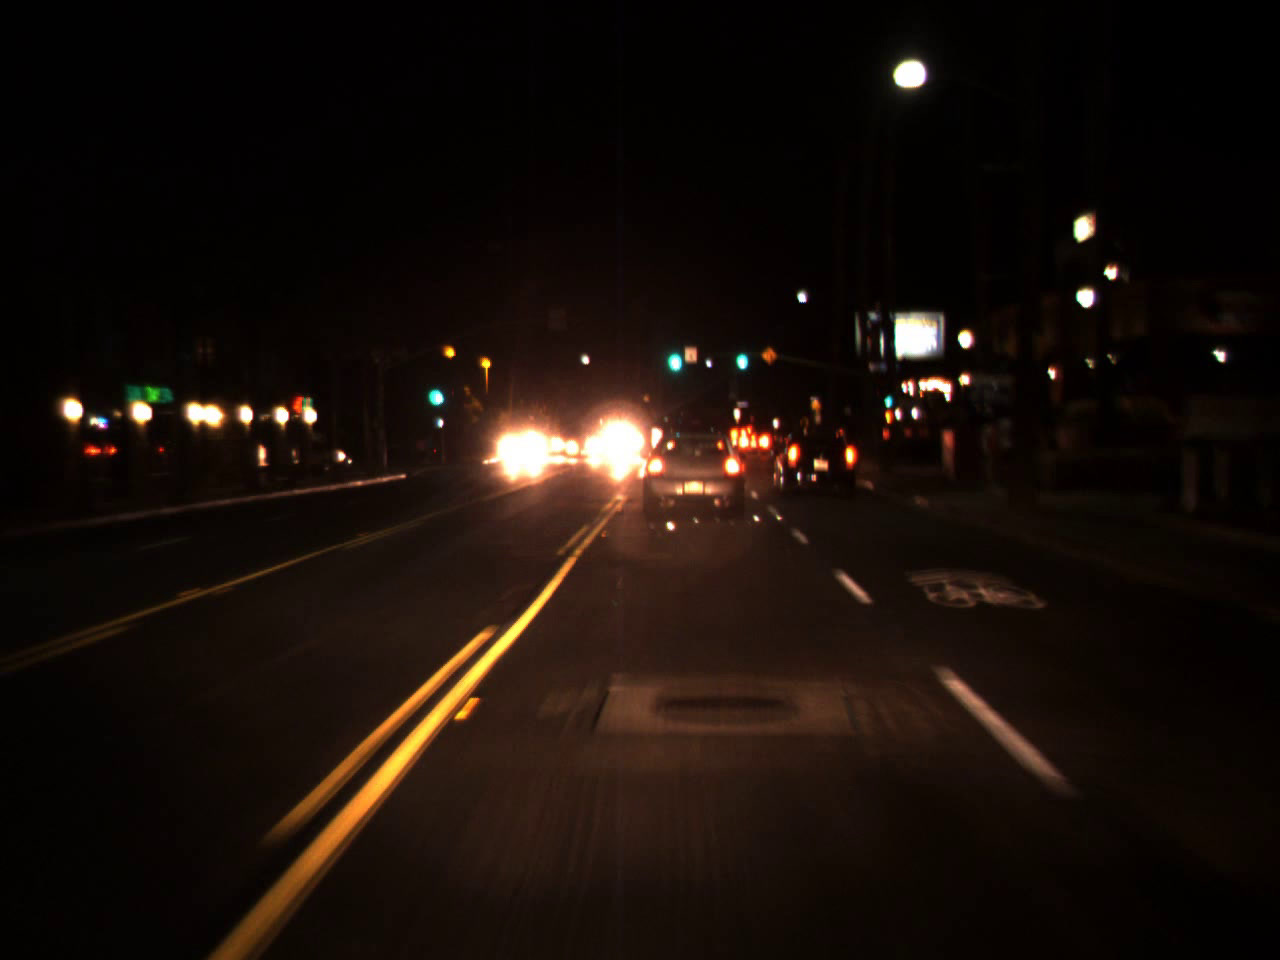go: (663, 331, 684, 379), (424, 367, 443, 412), (732, 337, 750, 373), (878, 378, 896, 411)
